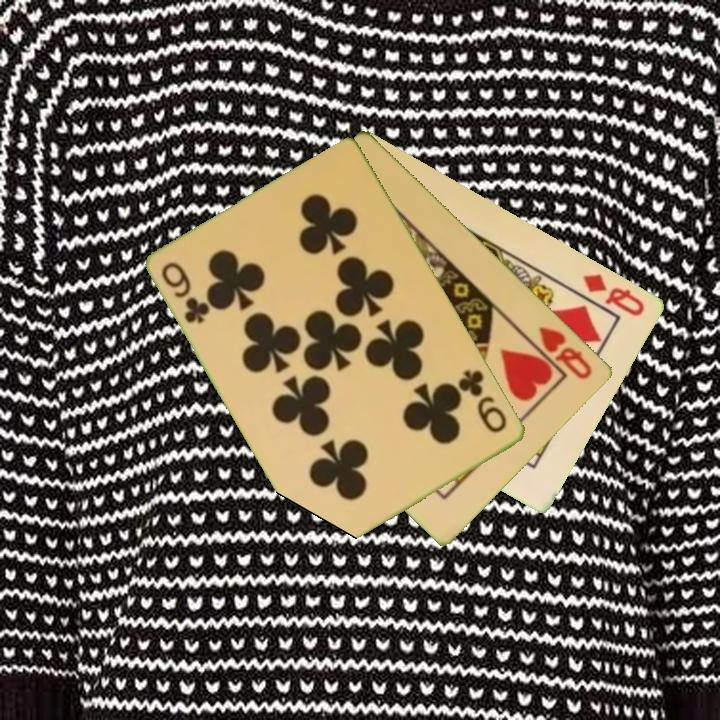9c: (455, 366, 511, 436), (158, 258, 214, 327)
Qd: (579, 269, 648, 319)
Qh: (536, 322, 596, 383)
